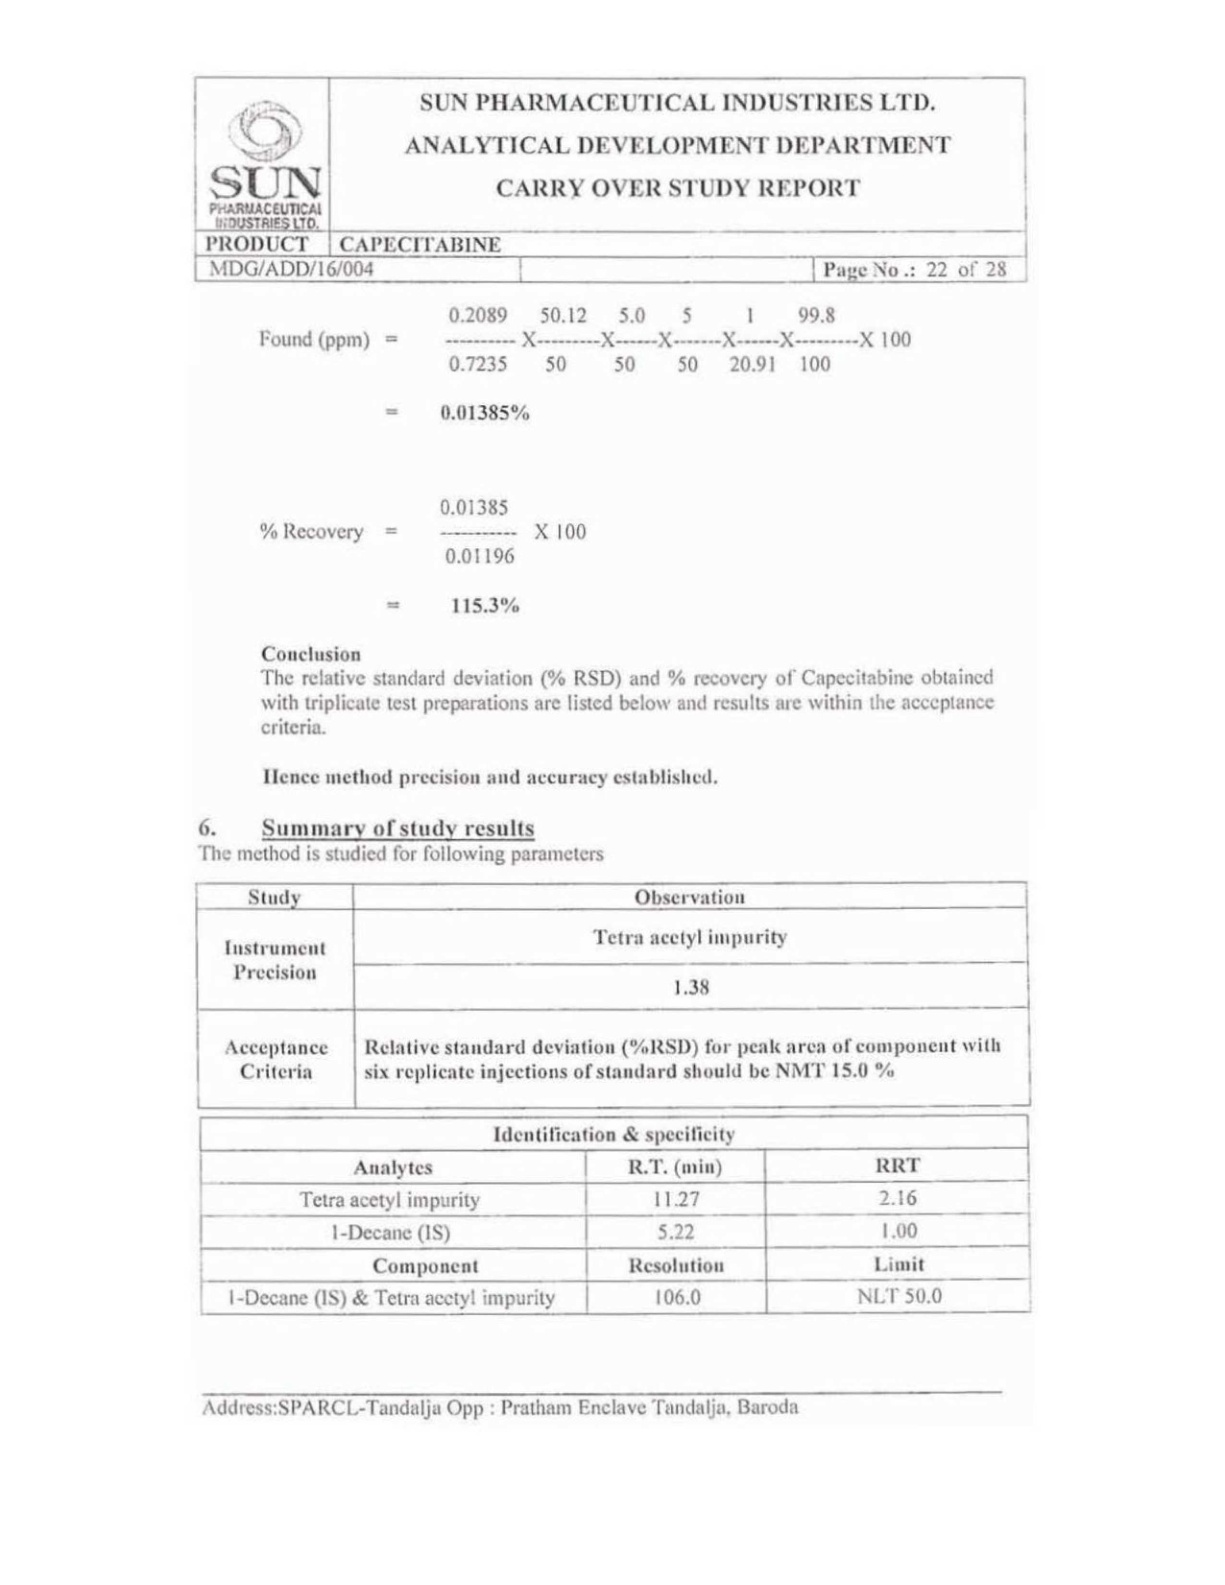merged_cells: (194, 880, 1031, 1110), (192, 75, 1029, 286), (197, 1114, 1033, 1316)
